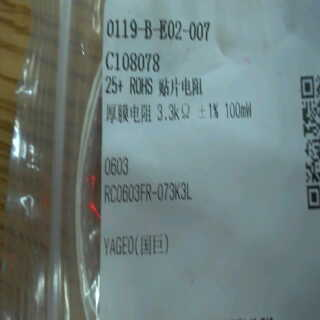3.3kO: (156, 101, 197, 125)
